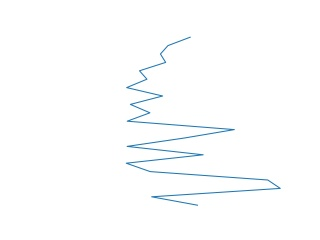crevasseRiverBedLagDeposit: (122, 33, 283, 210)
